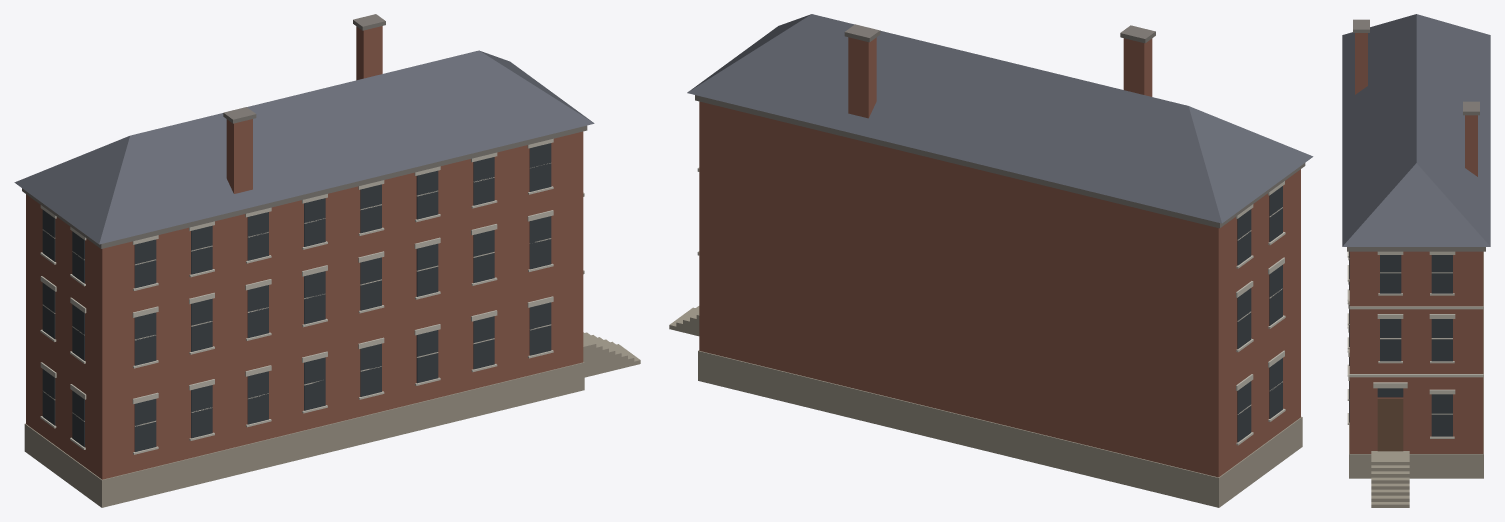
Rendered from house_2023_indiana__draft_1904.glb.
The picture shows the model from 3 angles, left to right: view 1: azimuth 30°, elevation 25°; view 2: azimuth 150°, elevation 25°; view 3: azimuth 270°, elevation 25°; orthographic projection. The views are drawn at different scales.
Visible parts, largest first — view 1: house_2023_indiana__draft_1904; view 2: house_2023_indiana__draft_1904; view 3: house_2023_indiana__draft_1904.
Part boxes in pixels (x1,y1,x2,y2): house_2023_indiana__draft_1904: [14, 14, 640, 507]; house_2023_indiana__draft_1904: [669, 14, 1313, 507]; house_2023_indiana__draft_1904: [1342, 14, 1490, 507].
Size of the model in its own units: 26.4 by 16 by 6.95.
